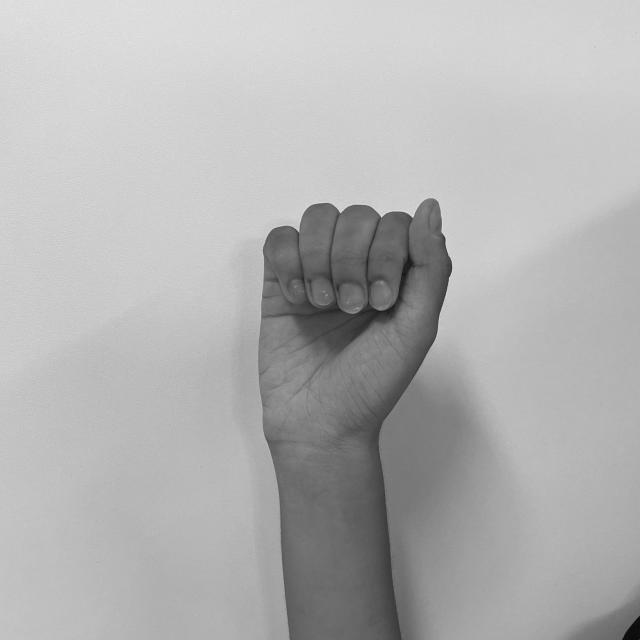Letra A: (249, 194, 456, 451)
